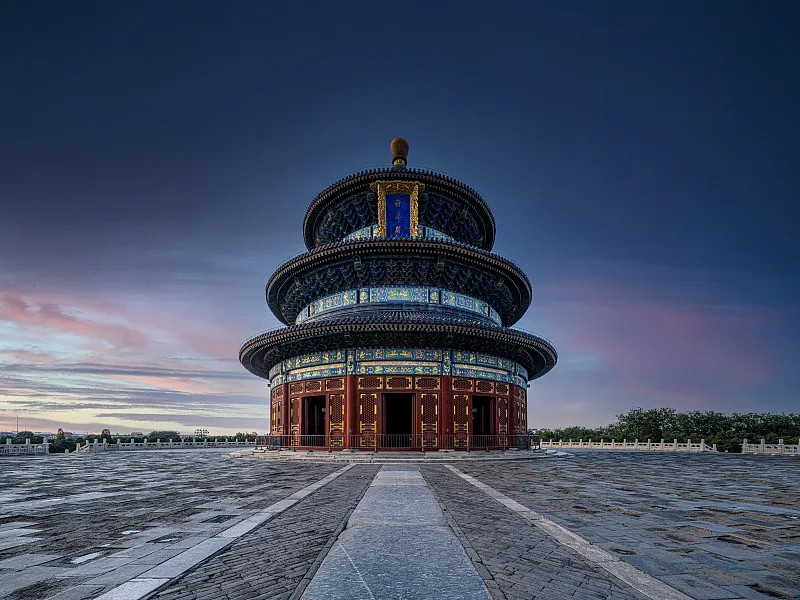Heaven: (238, 138, 560, 455)
